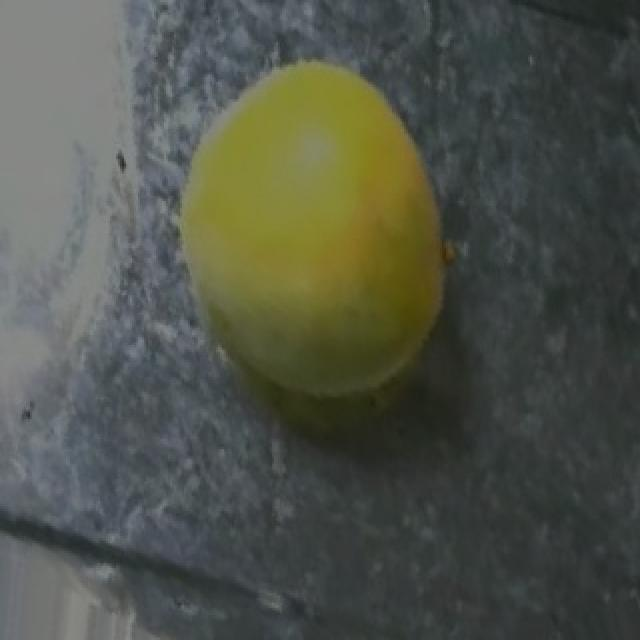fruit: (146, 20, 510, 454)
